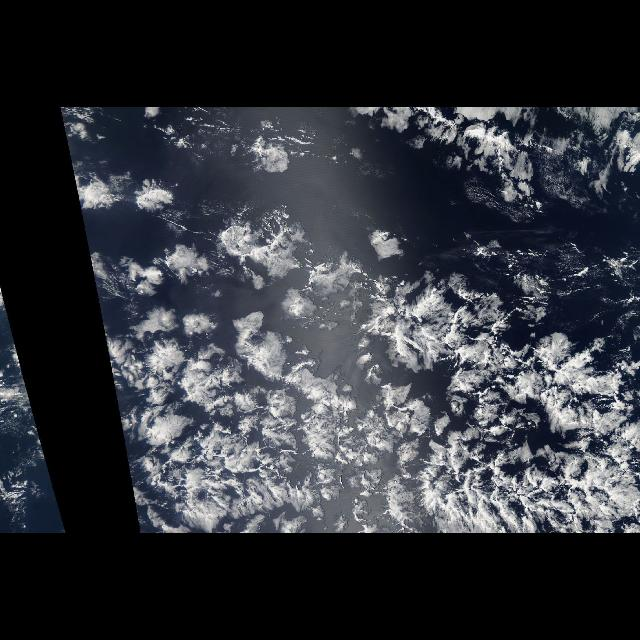Flower: (130, 245, 608, 515)
